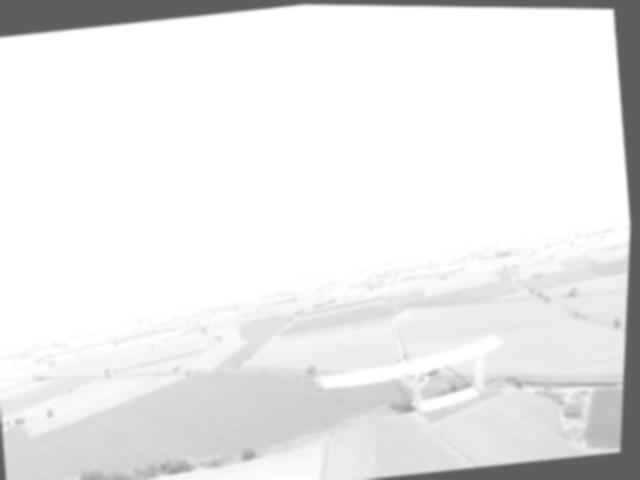hedef: (303, 317, 536, 433)
